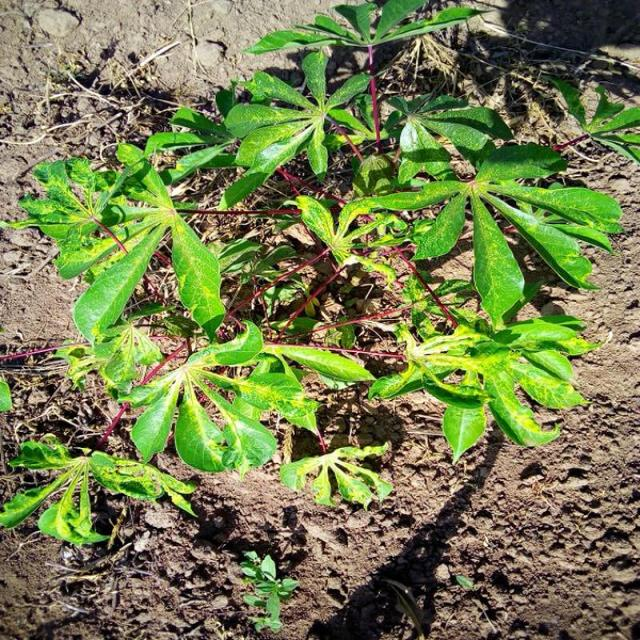cassava leaf: (3, 3, 626, 543)
